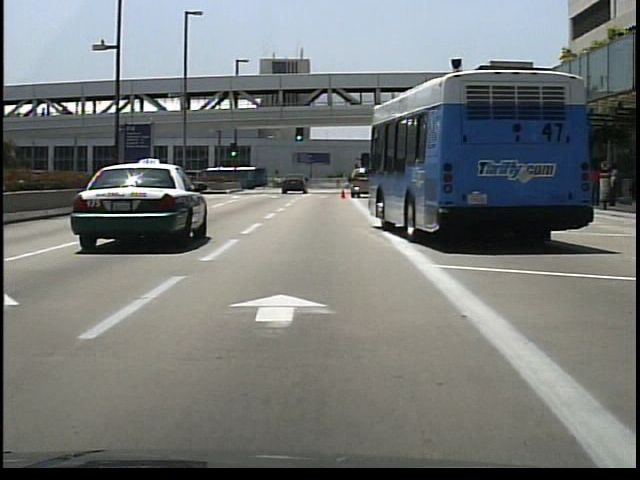car: (327, 28, 611, 255), (75, 145, 207, 251)
